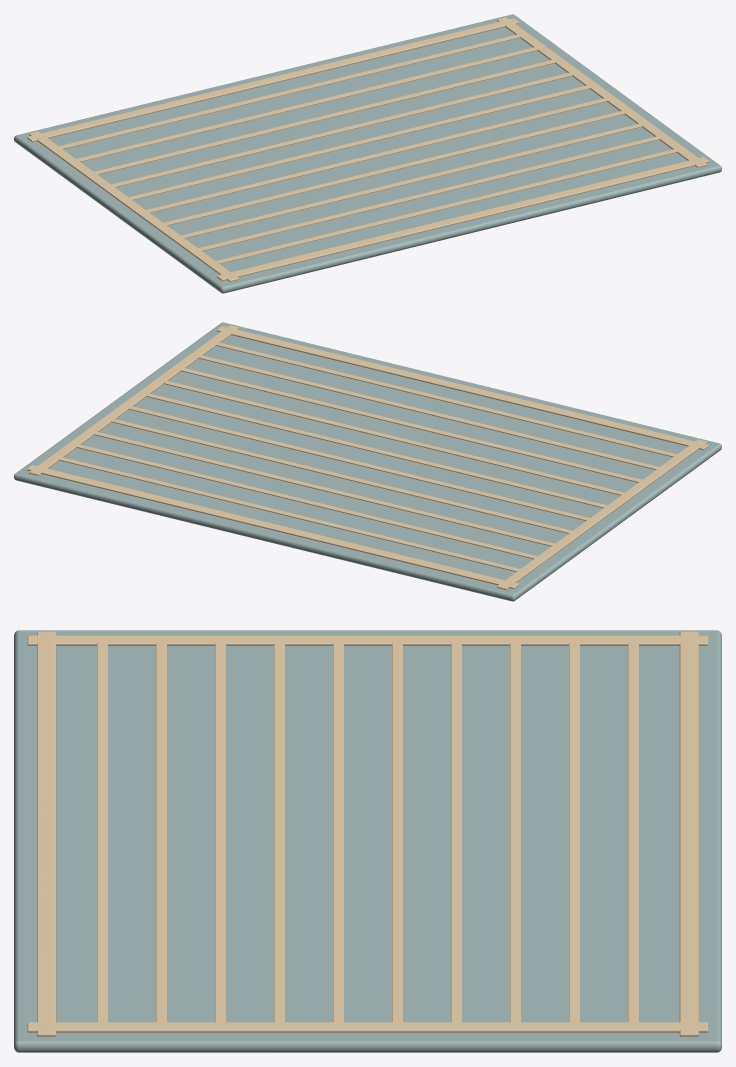
Rendered from atelier-patterned-rug.glb.
3 views of the same model, one above another, from view 1: azimuth 30°, elevation 25°; view 2: azimuth 150°, elevation 25°; view 3: azimuth 270°, elevation 25° (orthographic). The views are drawn at different scales.
Visible parts, largest first — view 1: fabric.074, accent.024; view 2: fabric.074, accent.024; view 3: fabric.074, accent.024.
Part boxes in pixels (x1,y1,x2,y2): fabric.074: (14,14,721,293); accent.024: (27,17,708,281); fabric.074: (14,322,721,601); accent.024: (27,325,708,589); fabric.074: (14,630,721,1052); accent.024: (27,631,708,1036).
Bounding box in the file's own units: 1.8 × 0.03 × 1.3.
